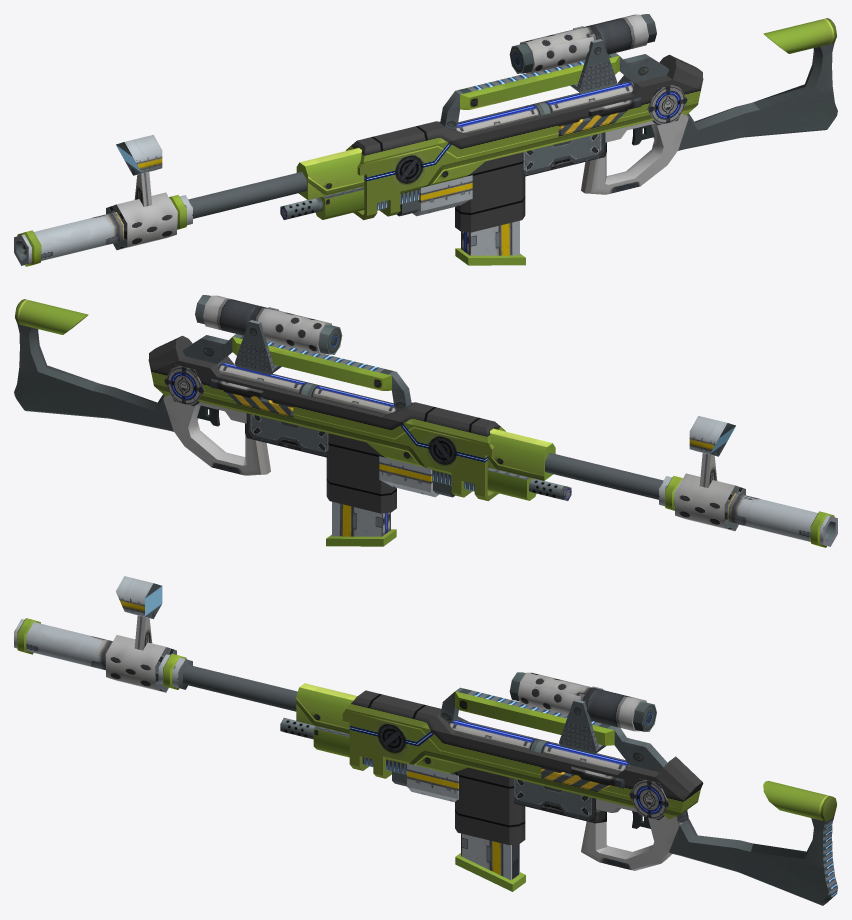
Rendered from AWP_04.FBX.
3 renders of one model, top to bottom at view 1: azimuth 30°, elevation 25°; view 2: azimuth 150°, elevation 25°; view 3: azimuth 330°, elevation 25°, orthographic.
Parts seen in each view (by area): view 1: P90X; view 2: P90X; view 3: P90X.
Boxes of the visible parts, left/top/right/bottom form: P90X: left=14, top=14, right=837, bottom=266; P90X: left=14, top=295, right=837, bottom=547; P90X: left=14, top=576, right=837, bottom=905.
Bounding box in the file's own units: 634 × 161 × 28.87.
